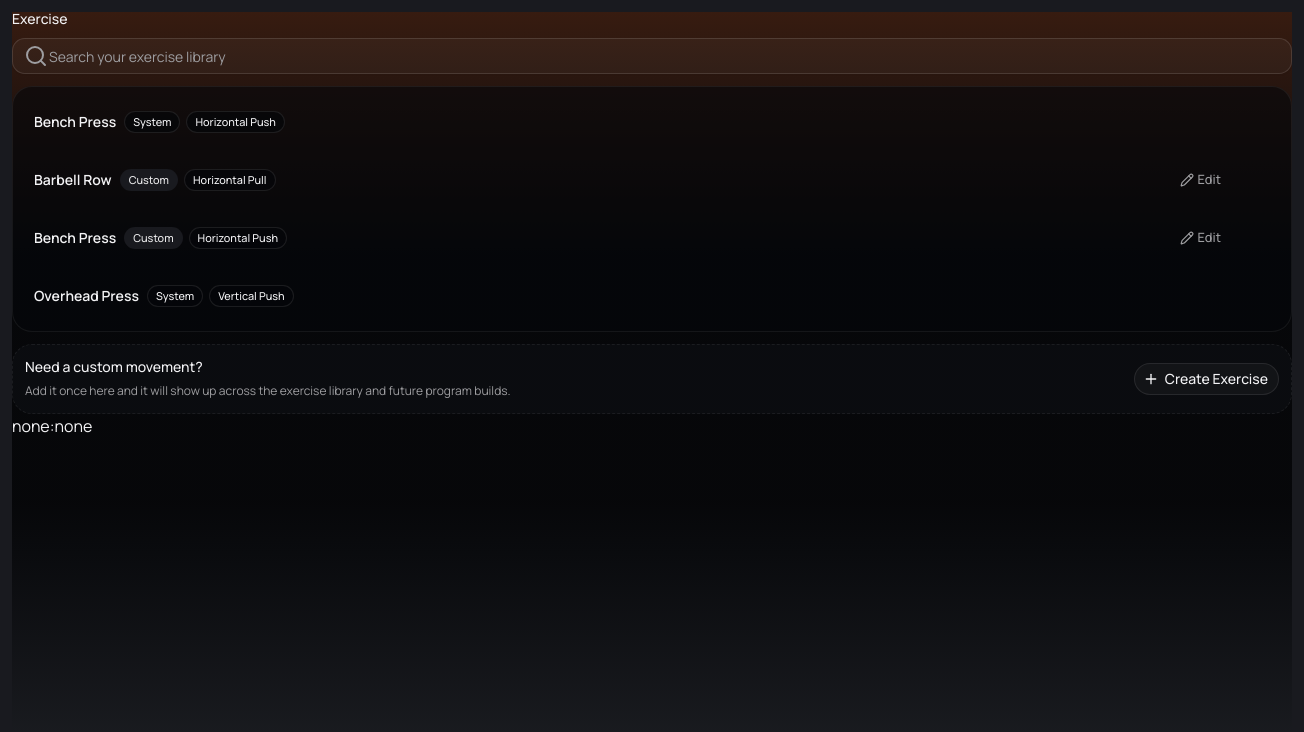
Test: ExerciseLibraryField › filters the library and selects an existing exercise
In the field labelled "Exercise": (652,56) [12, 38, 1292, 74], type "bench"
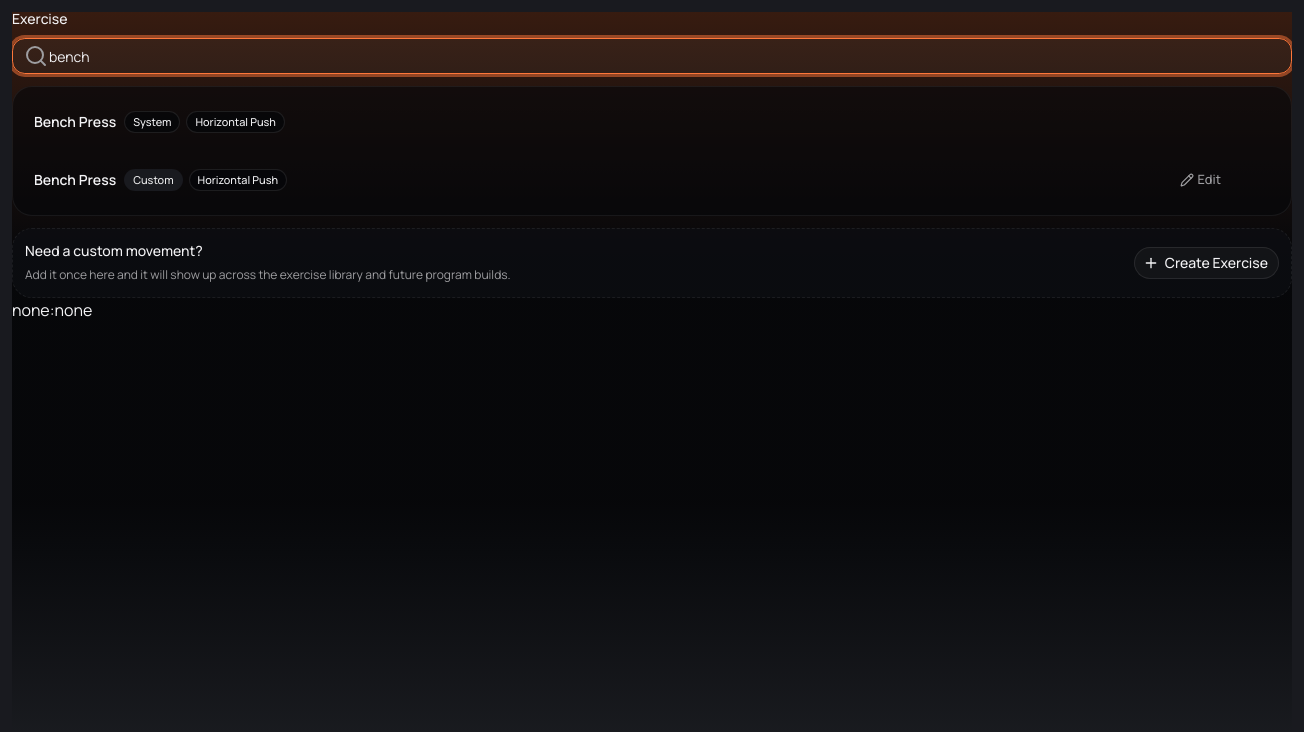
Click the button named "Choose Bench Press": (652,122) [22, 96, 1282, 148]
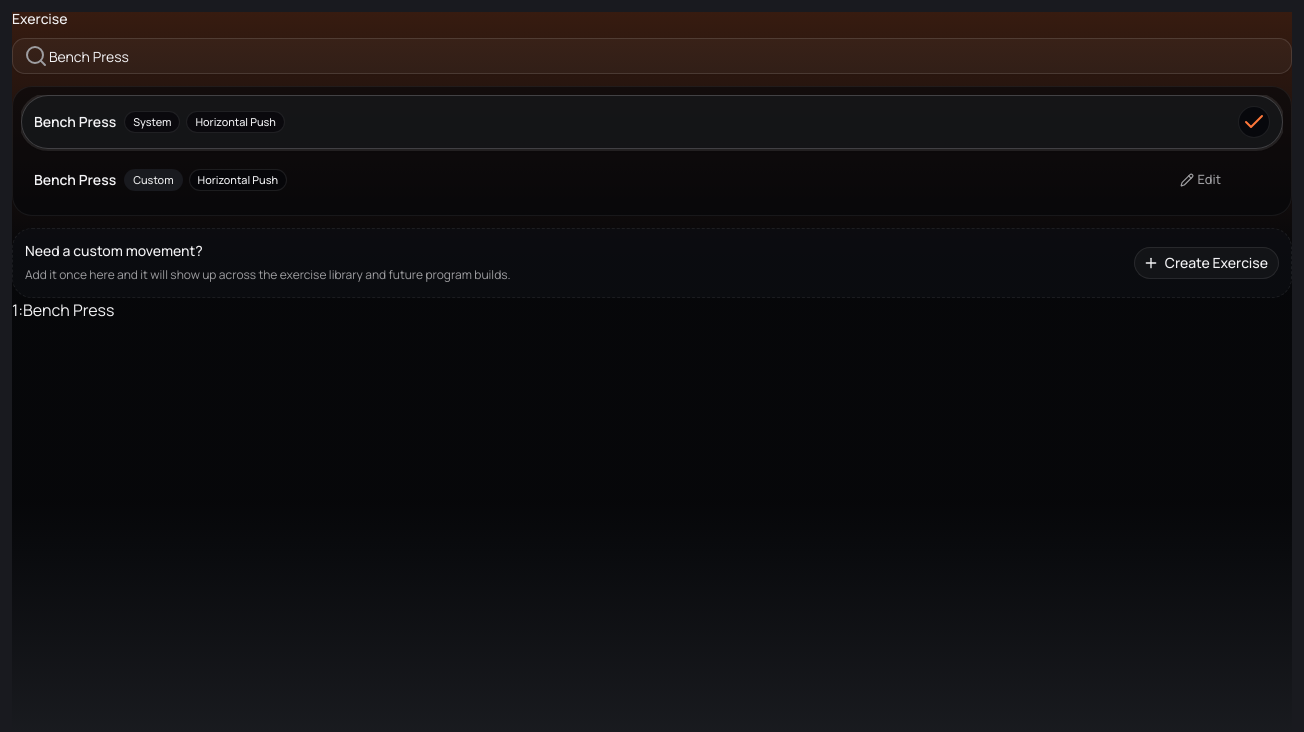
Expected: the field showing "Bench Press" is shown, [12, 38, 1292, 74]
Expected: the text with test id "selection-state" reads "1:Bench Press", [12, 299, 114, 321]
